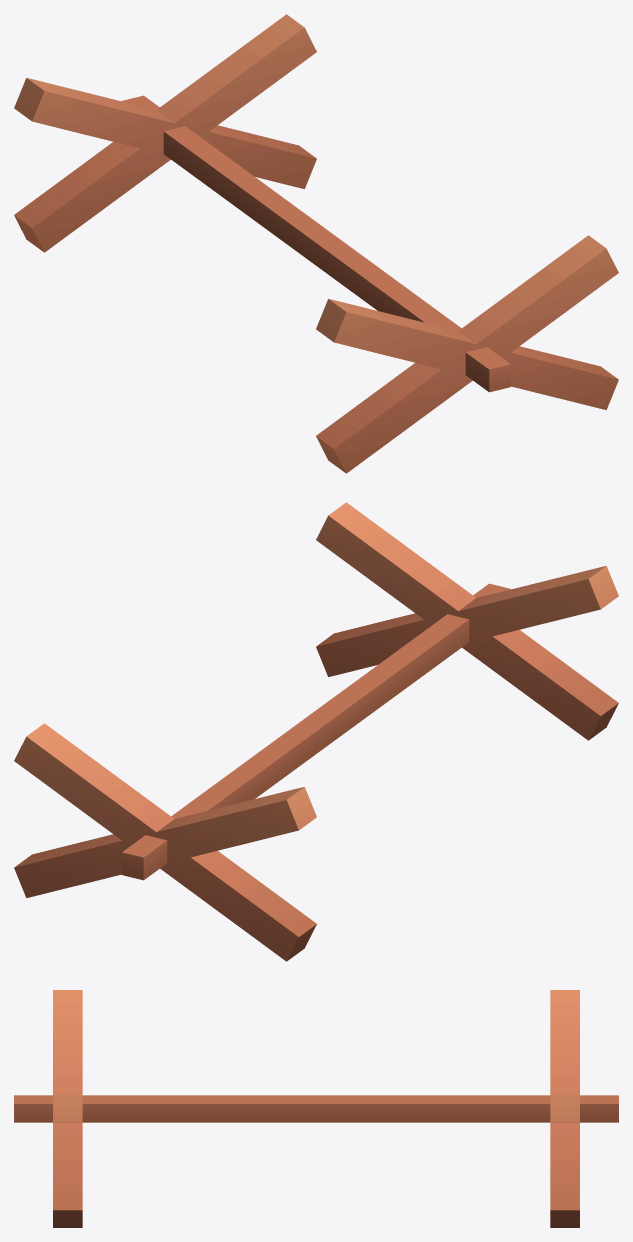
File: k-survival-bedroll-frame.glb
3 renders of one model, top to bottom at view 1: azimuth 30°, elevation 25°; view 2: azimuth 150°, elevation 25°; view 3: azimuth 270°, elevation 25°, orthographic. The views are drawn at different scales.
Parts seen in each view (by area): view 1: bedroll-frame; view 2: bedroll-frame; view 3: bedroll-frame.
Part boxes in pixels (x1,y1,x2,y2): bedroll-frame: (14,14,618,473); bedroll-frame: (14,502,618,961); bedroll-frame: (14,990,618,1227).
Bounding box in the file's own units: 0.2722 × 0.1477 × 0.6076.
1 material, 1 textured.
